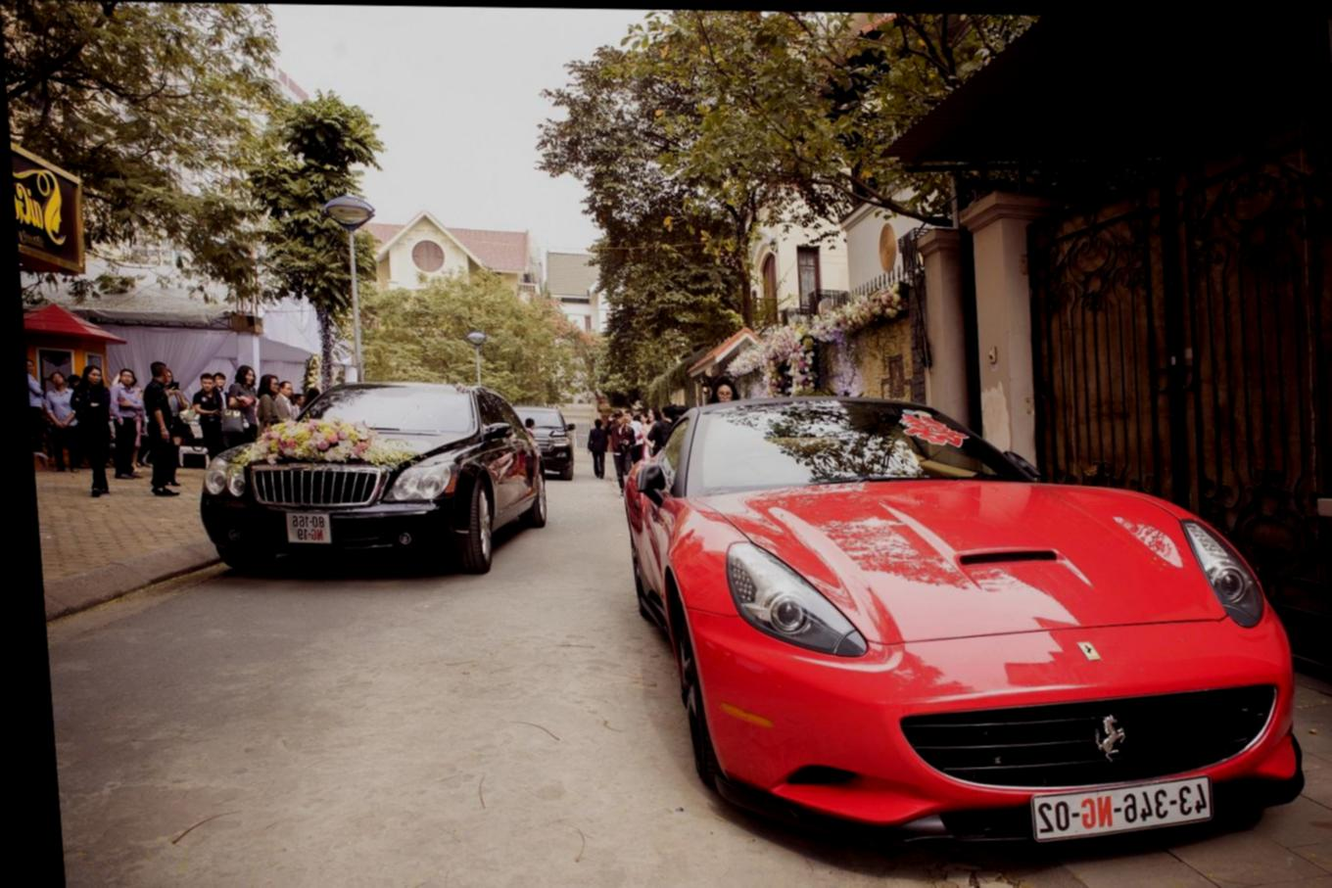License_Plate: (1023, 769, 1218, 856), (280, 512, 337, 548)
